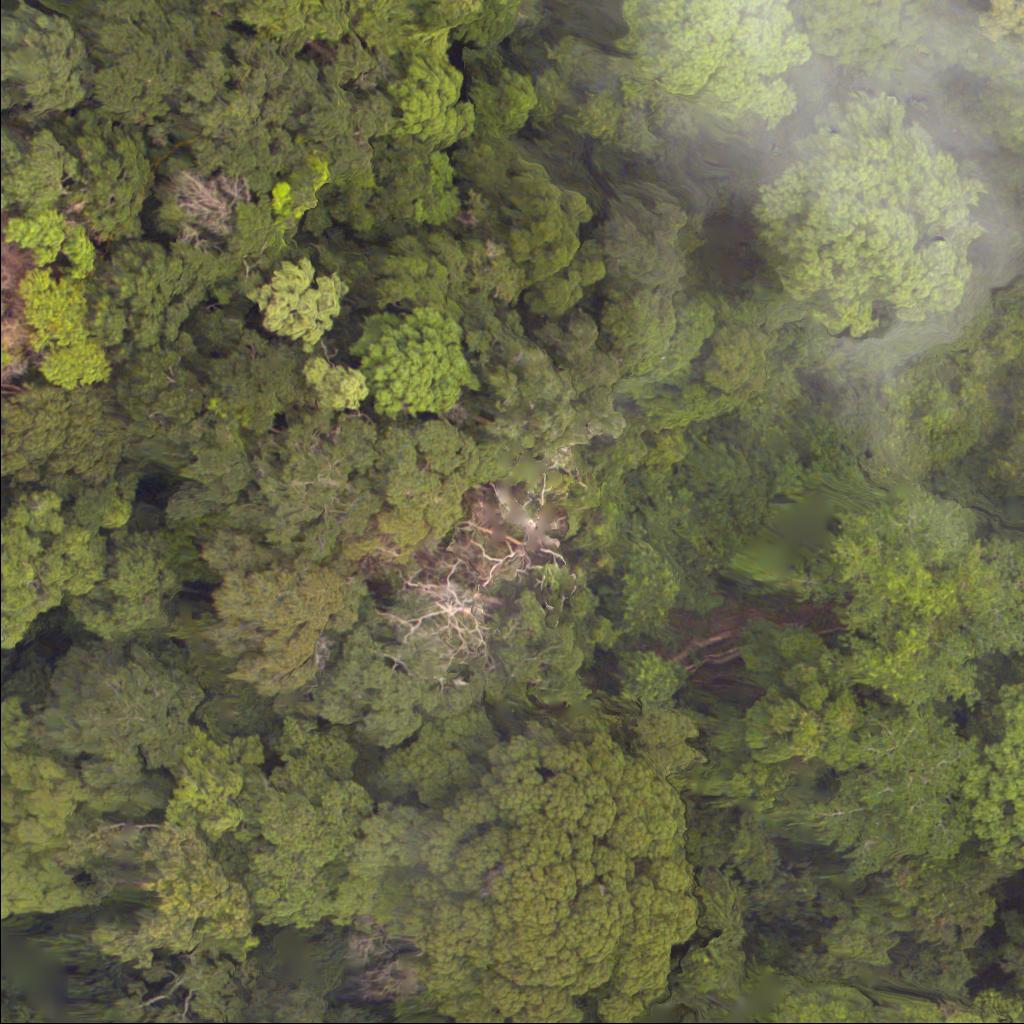crown: (382, 729, 696, 1023), (202, 0, 514, 147), (960, 662, 1023, 862), (873, 1002, 1016, 1023), (768, 1002, 851, 1023)
